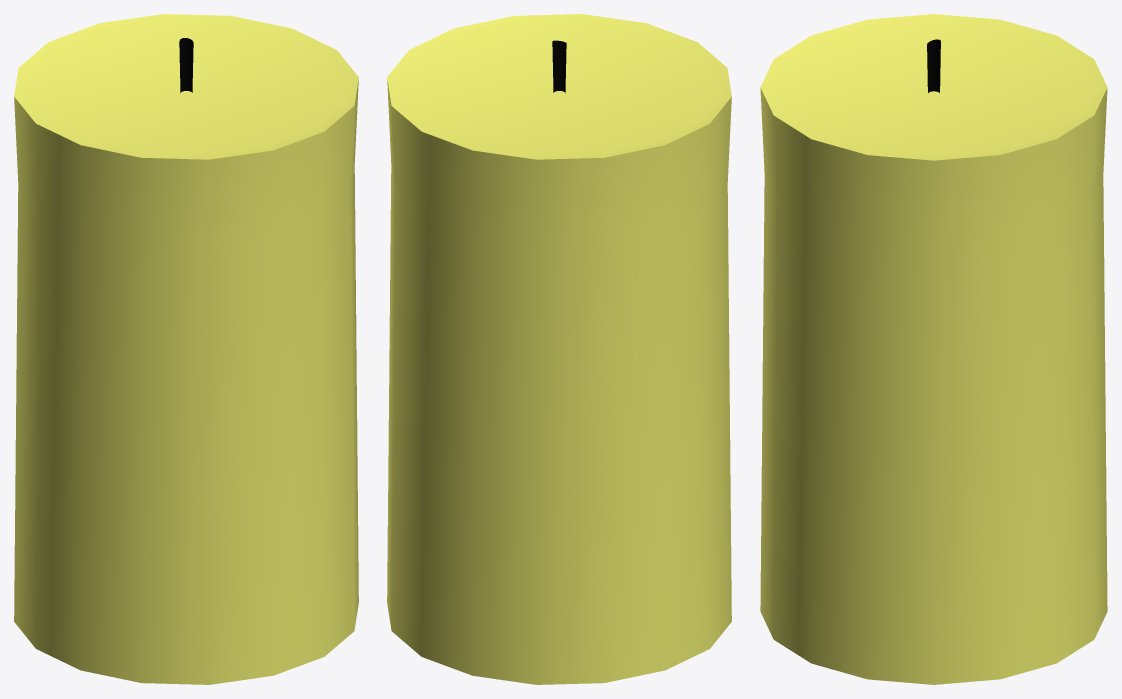
The model's file is candle.fbx.
The picture shows the model from 3 angles, left to right: view 1: azimuth 30°, elevation 25°; view 2: azimuth 150°, elevation 25°; view 3: azimuth 270°, elevation 25°; orthographic projection.
Visible parts, largest first — view 1: Cylinder; view 2: Cylinder; view 3: Cylinder.
Boxes of the visible parts, box(x1,y1,x2,y2) form: Cylinder: box(14, 14, 358, 684); Cylinder: box(387, 14, 731, 684); Cylinder: box(760, 14, 1107, 684).
Size of the model in its own units: 60 by 109 by 60.
